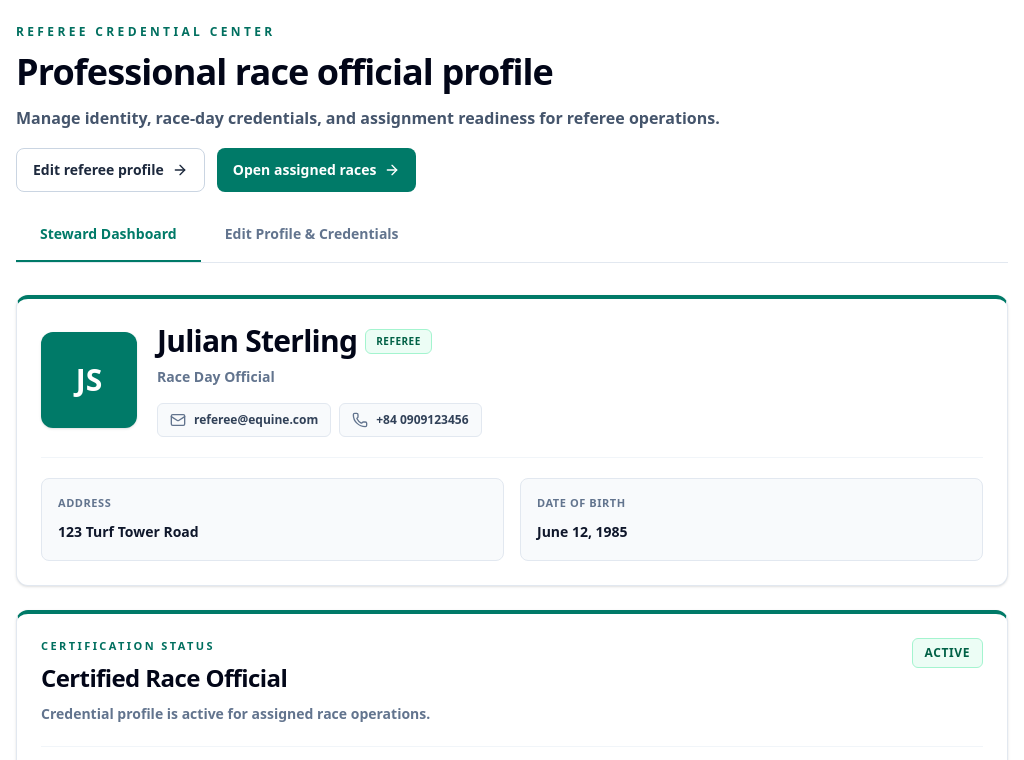
Test: RefereeProfileDashboardPage › toggles content and switches tabs when clicking buttons
Expected: the heading "Professional race official profile" is shown, [16,47,553,96]
Expected: the field labelled "profile photo" is not shown
Note: Click "Edit Profile & Credentials" tab.
What coordinates should you click on to do the following:
click the button "Edit Profile & Credentials"
I would click on:
 (312, 243)
Its box is [201,224,423,262].
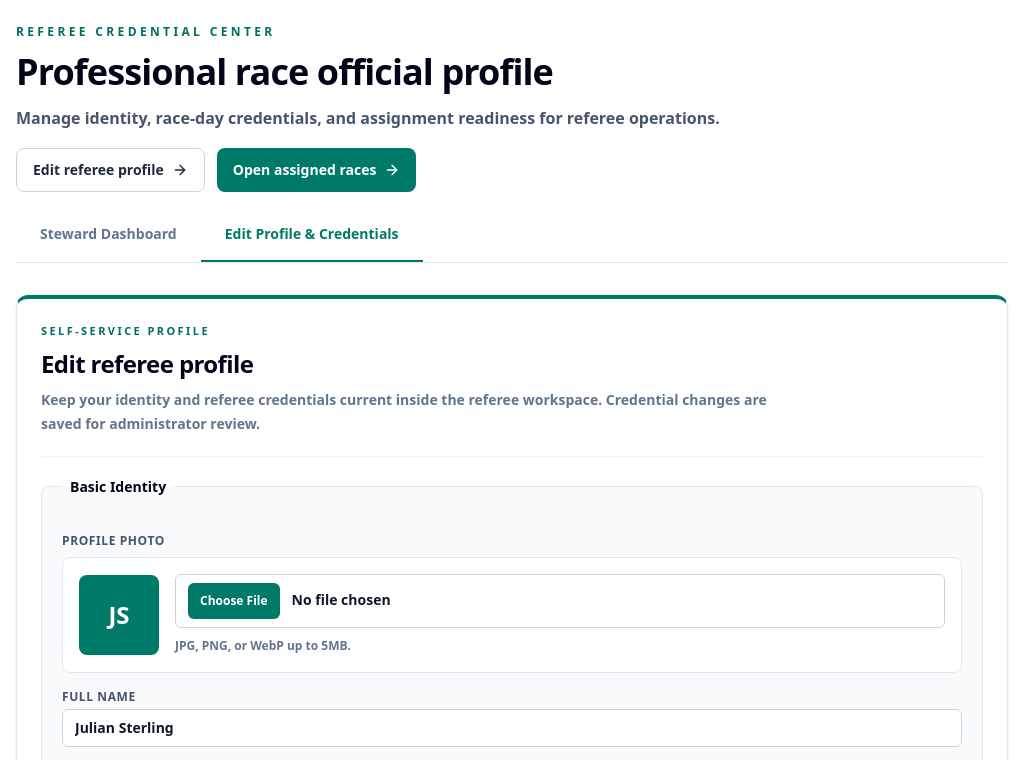
Expected: the heading "Referee biography" is not shown
Expected: the file field labelled "Profile photo" is shown, [175,574,945,628]
Note: Click "Steward Dashboard" tab.
What coordinates should you click on to do the following:
click the button "Steward Dashboard"
I would click on:
 (108, 243)
Its box is [16,224,201,262].
(page scrolled)
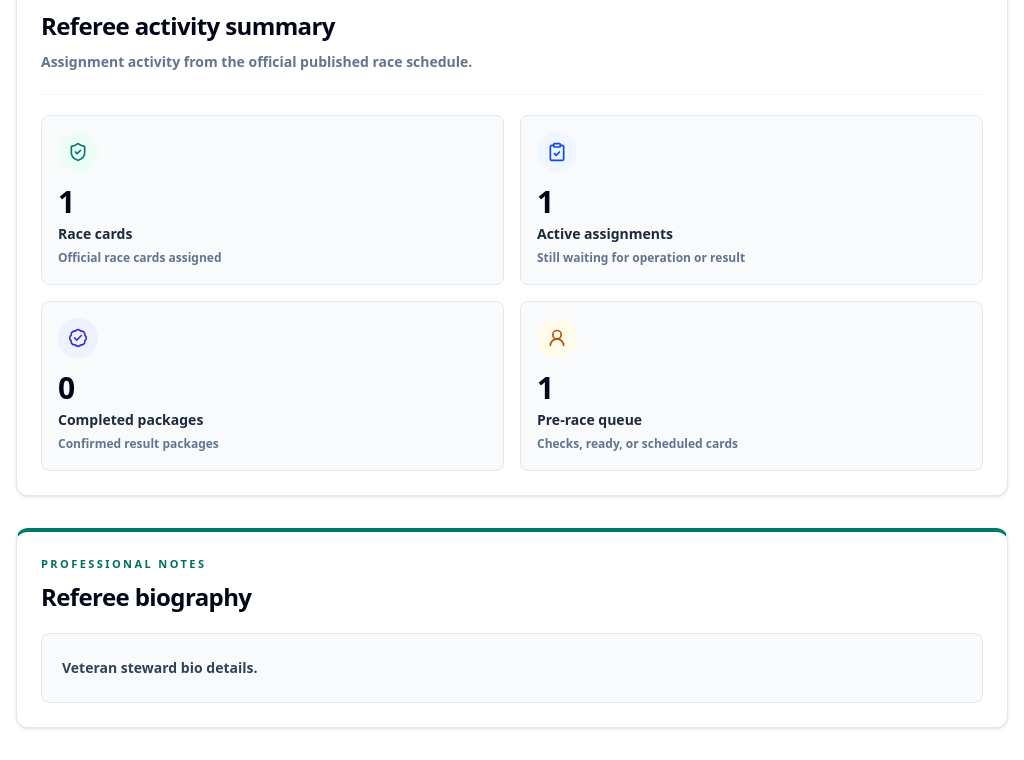
Expected: the heading "Referee biography" is shown, [41,580,251,612]
Expected: the label labelled "Profile photo" is gone
